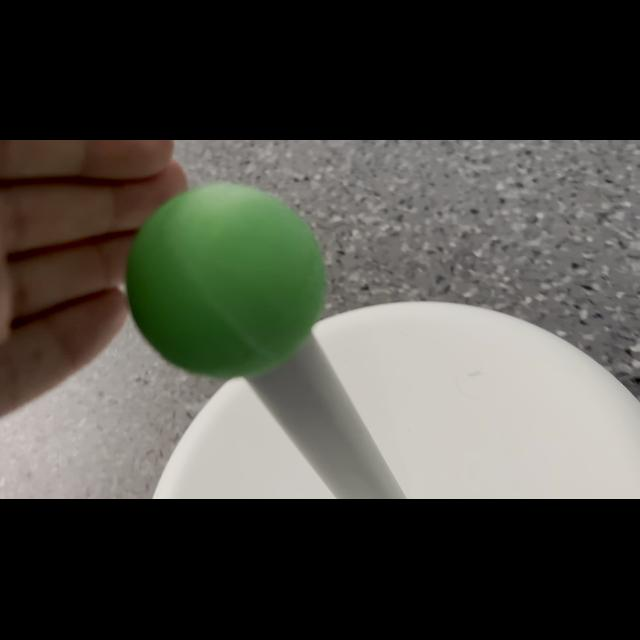objects: (123, 175, 329, 383)
